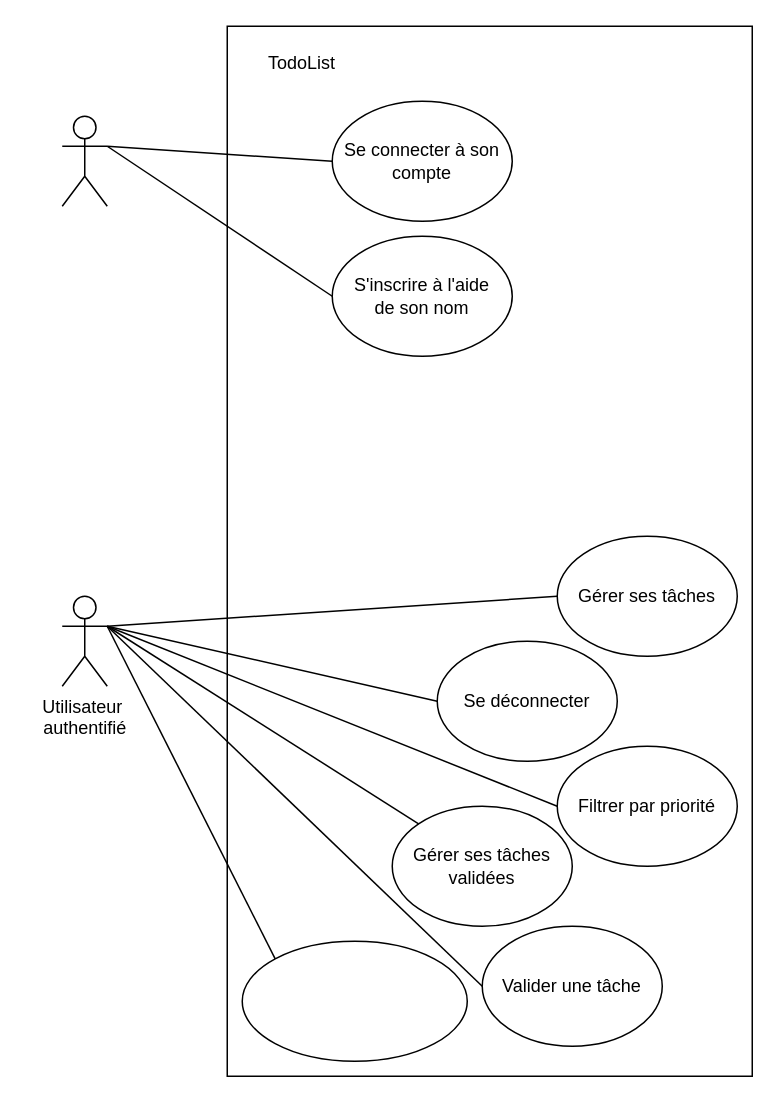
This 779x1103 diagram has some shape labels left out. The centre of each missing label's shape, as x and y in pixels:
"Créer/modifier/supprimer des tâches" goes at pixel 354 1000.
"Utilisateur non authentifié" goes at pixel 84 160.
